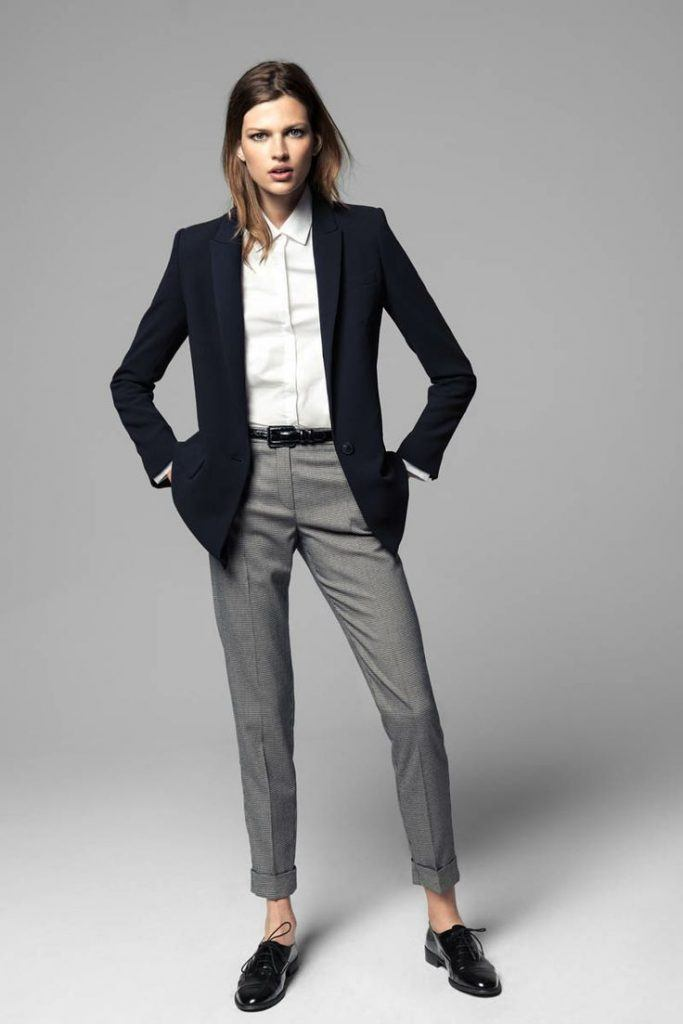F_W_suit jacket: (103, 183, 514, 536)
